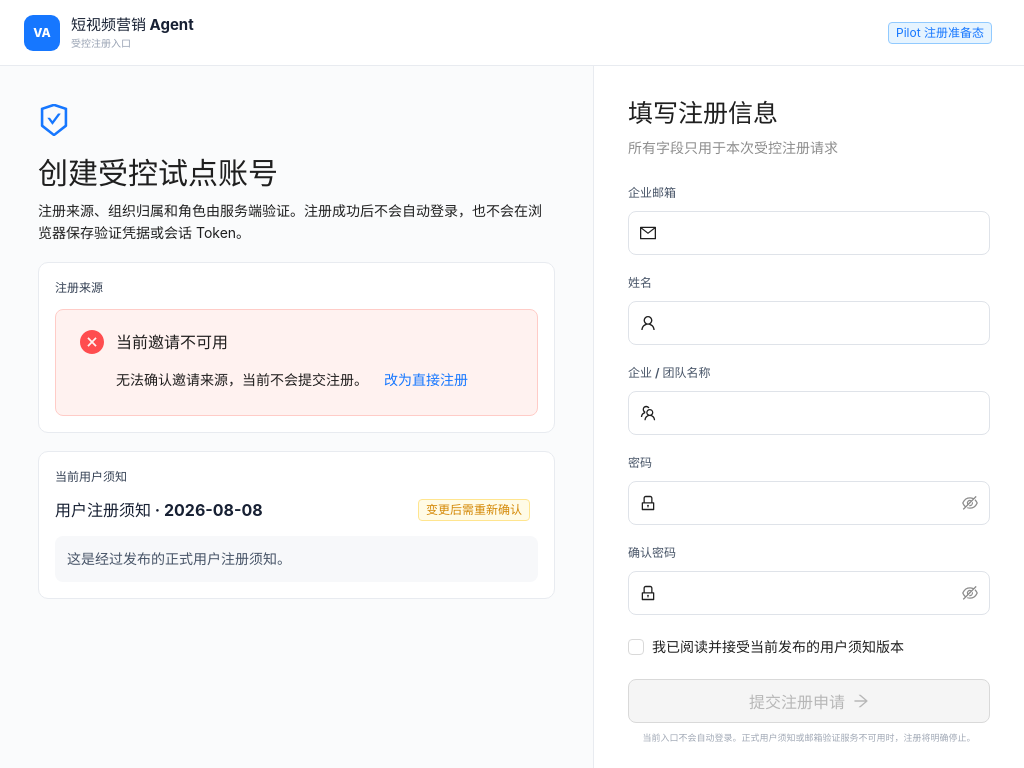
Test: RegistrationPage › previews an invitation without rendering its token and requires an explicit switch when unavailable
Expected: the text "当前邀请不可用" is shown, x1=116 y1=332 x2=228 y2=352
Expected: the button with test id "registration-submit" is disabled, x1=628 y1=679 x2=990 y2=723
What coordinates should you click on to do the following:
click the button "改为直接注册"
I would click on:
 (426, 379)
Its box is x1=368 y1=363 x2=484 y2=395.
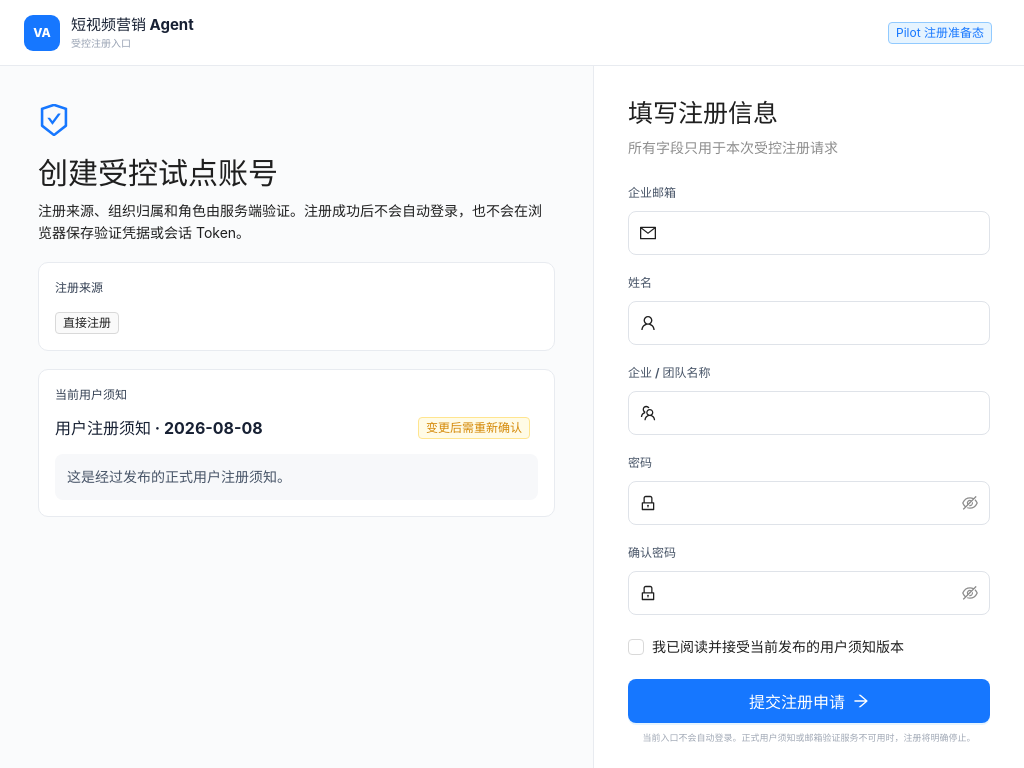
Expected: the text "直接注册" is shown, x1=55 y1=312 x2=119 y2=334
Expected: the button with test id "registration-submit" is enabled, x1=628 y1=679 x2=990 y2=723
